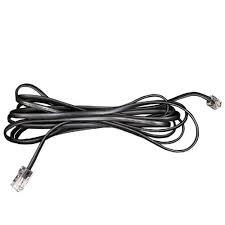cable: (3, 84, 220, 192)
